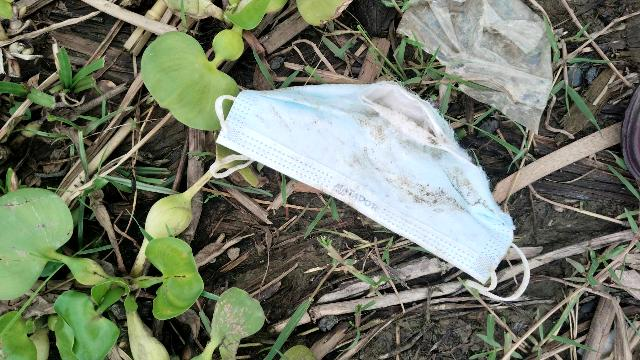mask: (209, 77, 545, 315)
